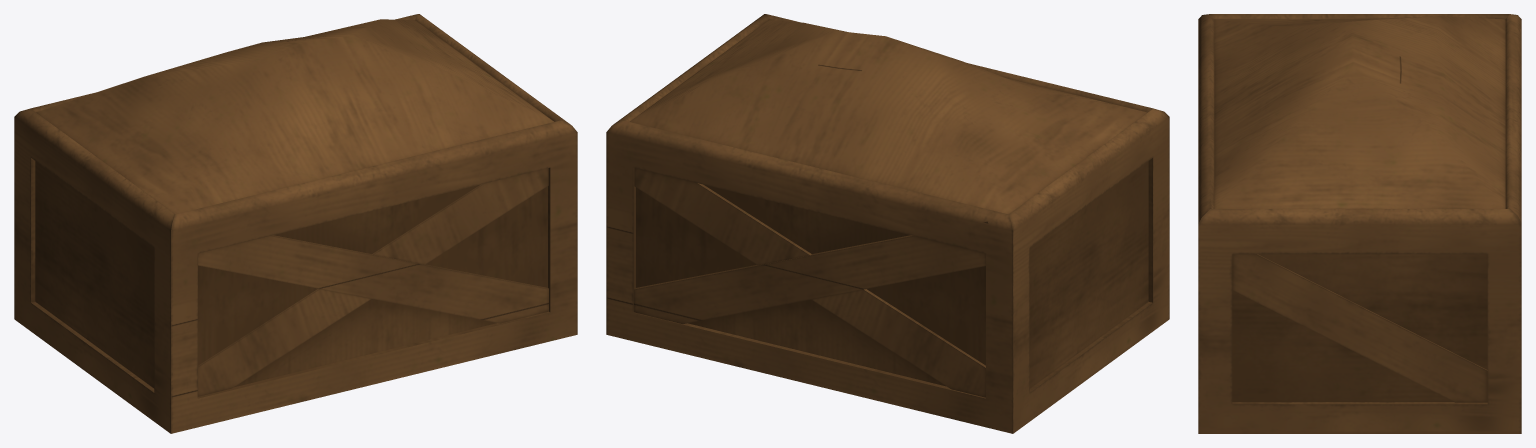
The model's file is Object_FarmSeedCrate.fbx.
3 views of the same model, side by side, from view 1: azimuth 30°, elevation 25°; view 2: azimuth 150°, elevation 25°; view 3: azimuth 270°, elevation 25° (orthographic). The views are drawn at different scales.
Parts seen in each view (by area): view 1: Object_FarmSeedCrate; view 2: Object_FarmSeedCrate; view 3: Object_FarmSeedCrate.
Boxes of the visible parts, x1,y1,x2,y2 form: Object_FarmSeedCrate: [14, 14, 577, 433]; Object_FarmSeedCrate: [606, 14, 1169, 433]; Object_FarmSeedCrate: [1198, 14, 1521, 433].
Size of the model in its own units: 600 by 404 by 400.
1 material, 1 textured.
